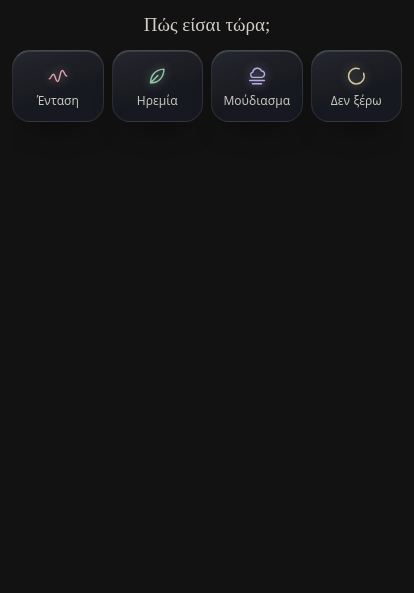
it: «Πώς είσαι τώρα;» after a practice › with the "before" from the home check-in: Before → Now, and self-regulation
Click the button "Ηρεμία" at [157, 86], box [112,50,203,122]
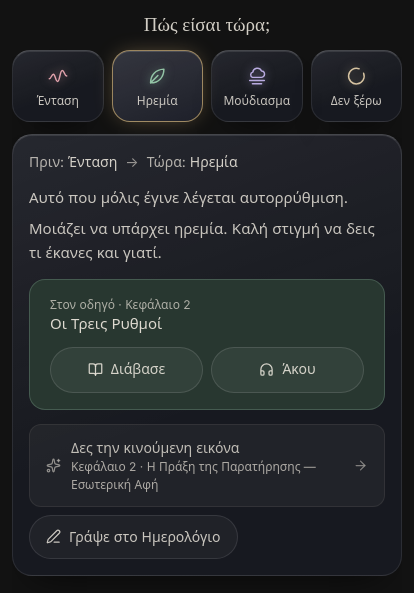
Result: the text "Αυτό που μόλις έγινε λέγεται αυτορρύθμιση." is shown at [29,186,385,210]
